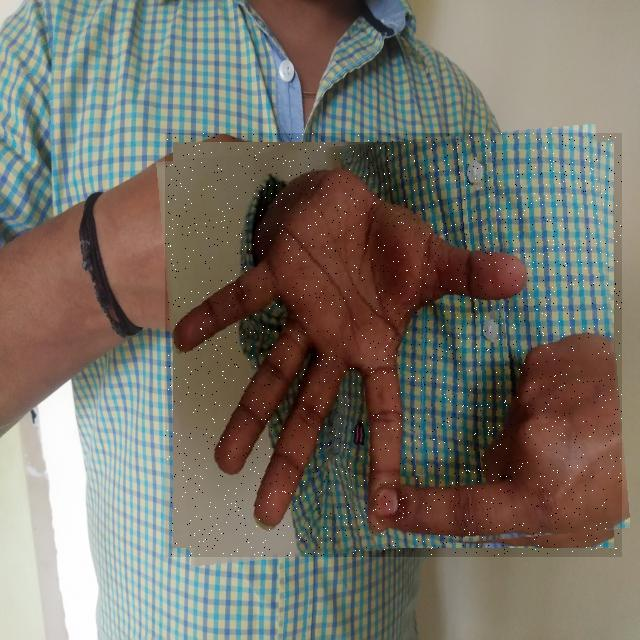D: (165, 133, 622, 557)
